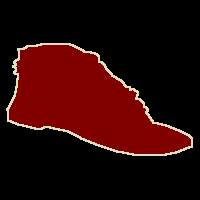shoe: (7, 43, 192, 155)
